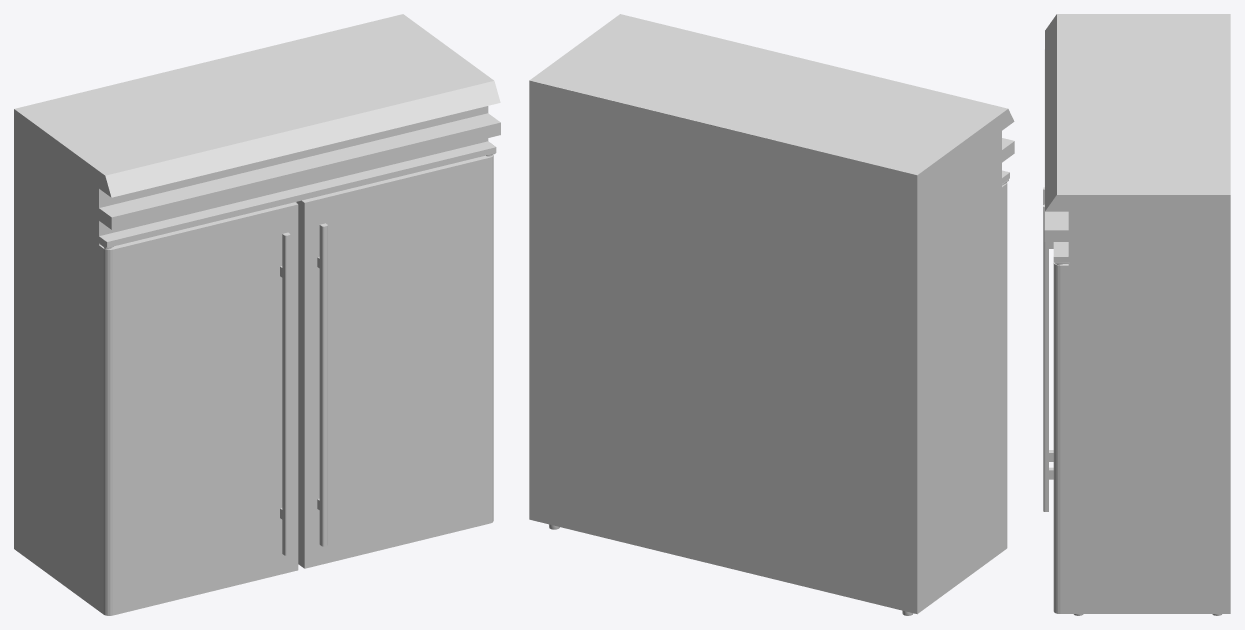
The model's file is Refrigerator_Visual.fbx.
The picture shows the model from 3 angles, left to right: view 1: azimuth 30°, elevation 25°; view 2: azimuth 150°, elevation 25°; view 3: azimuth 270°, elevation 25°; orthographic projection. The views are drawn at different scales.
Visible parts, largest first — view 1: Refrigerator_Body, Refrigerator_LeftDoor, Refrigerator_RightDoor; view 2: Refrigerator_Body, Refrigerator_LeftDoor; view 3: Refrigerator_Body, Refrigerator_RightDoor.
Part boxes in pixels (x1,y1,x2,y2): Refrigerator_Body: [14, 14, 500, 610]; Refrigerator_LeftDoor: [99, 202, 298, 615]; Refrigerator_RightDoor: [296, 154, 493, 568]; Refrigerator_Body: [529, 14, 1014, 615]; Refrigerator_LeftDoor: [1002, 182, 1007, 551]; Refrigerator_Body: [1044, 14, 1230, 615]; Refrigerator_RightDoor: [1043, 204, 1068, 613].
Bounding box in the file's own units: 207 × 228 × 90.64.
7 materials, 5 textured.
